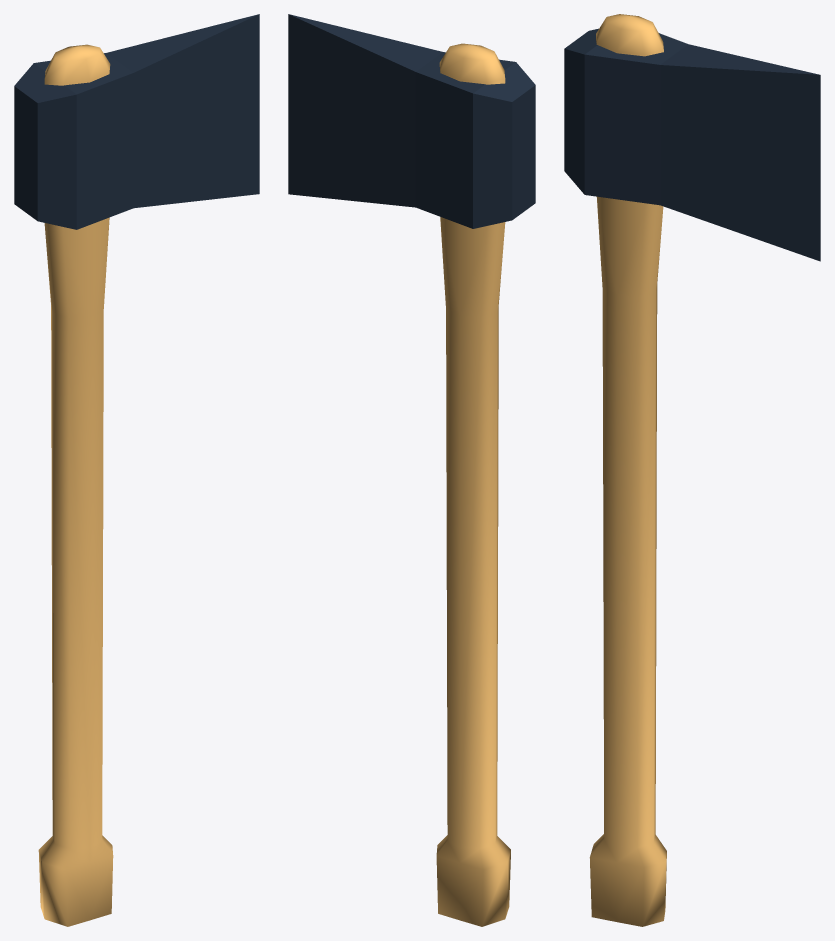
The model's file is simple_axe.gltf.
3 renders of one model, left to right at view 1: azimuth 30°, elevation 25°; view 2: azimuth 150°, elevation 25°; view 3: azimuth 330°, elevation 25°, orthographic. The views are drawn at different scales.
Parts seen in each view (by area): view 1: Axe; view 2: Axe; view 3: Axe.
Boxes of the visible parts, x1,y1,x2,y2 form: Axe: (14, 14, 259, 926); Axe: (288, 14, 535, 926); Axe: (564, 14, 820, 926).
Bounding box in the file's own units: 0.1431 × 0.5035 × 0.0454.
